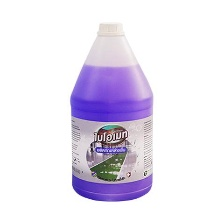cleaning_solution: (66, 20, 156, 204)
